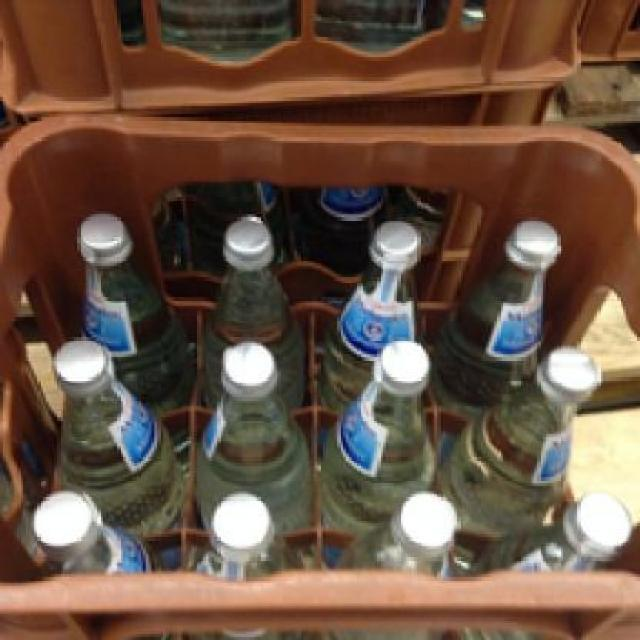Water: (437, 340, 597, 543), (45, 334, 178, 520), (193, 211, 310, 400), (308, 211, 438, 380), (192, 337, 308, 526), (308, 337, 428, 517), (65, 203, 181, 383), (432, 217, 552, 377)
